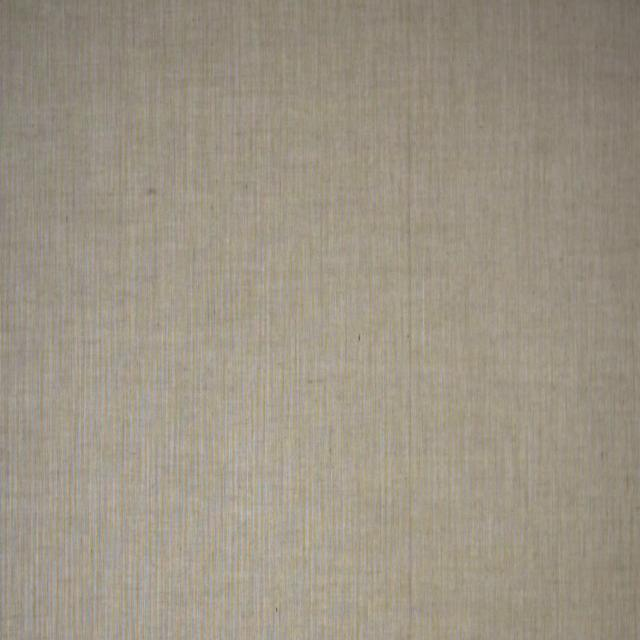dirty: (144, 186, 159, 196)
